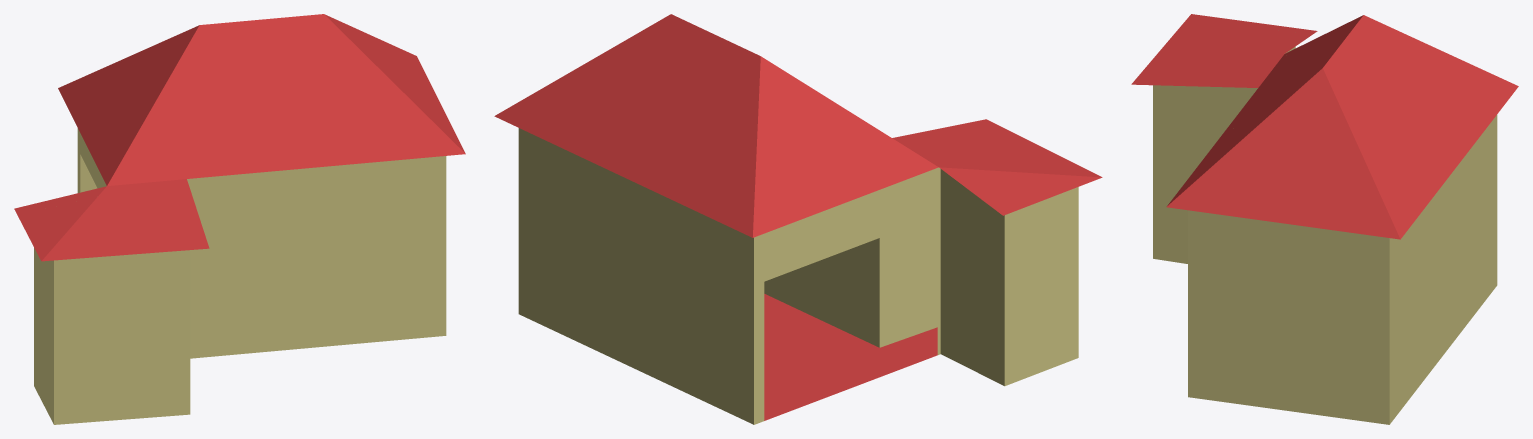
3 views of the same model, side by side, from view 1: azimuth 30°, elevation 25°; view 2: azimuth 150°, elevation 25°; view 3: azimuth 270°, elevation 25° (orthographic). The views are drawn at different scales.
Visible parts, largest first — view 1: group_5, group_3, group_9, group_7, group_4, group_8; view 2: group_5, group_3, group_9, group_6, group_7, group_4, group_8, group_10; view 3: group_5, group_3, group_9, group_7, group_4, group_8.
Boxes of the visible parts, x1,y1,x2,y2 form: group_5: (77,128,446,358); group_3: (58,14,465,185); group_9: (34,248,190,424); group_7: (14,179,209,261); group_4: (60,50,465,185); group_8: (14,186,106,227); group_5: (518,128,927,424); group_3: (496,14,938,237); group_9: (893,167,1078,386); group_6: (764,294,926,420); group_7: (892,119,1102,215); group_4: (494,102,938,237); group_8: (939,167,1034,215); group_10: (893,327,937,359); group_5: (1188,114,1497,424); group_3: (1166,15,1518,239); group_9: (1153,46,1295,263); group_7: (1131,14,1315,87); group_4: (1168,49,1517,239); group_8: (1258,27,1317,53).
Bounding box in the file's own units: 24.98 × 16.94 × 14.46.
